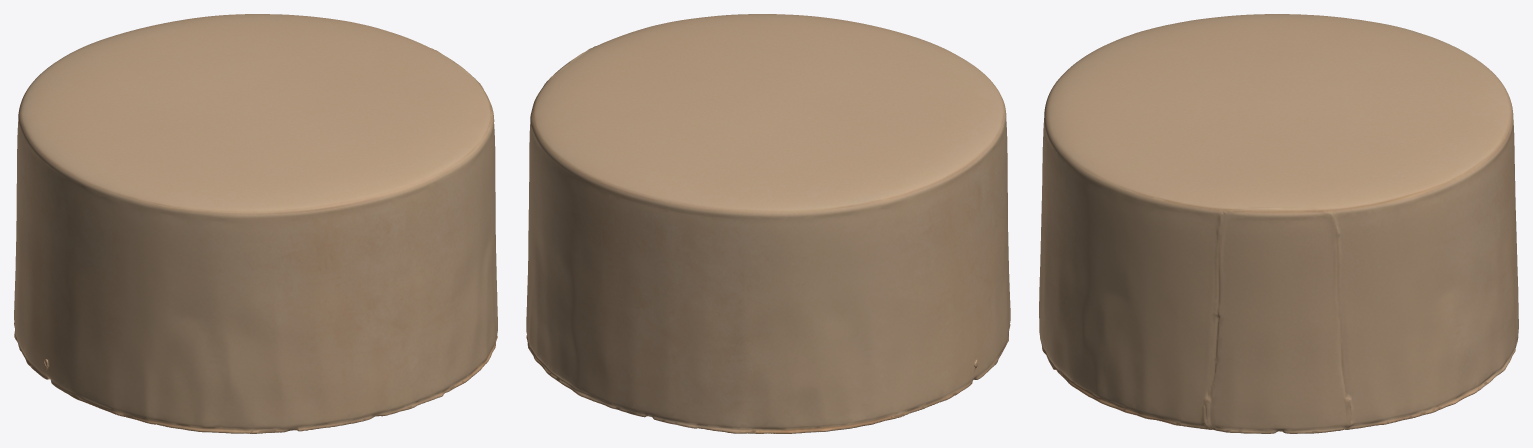
The model's file is product-traditional-dixon-slipcovered-round-ottoman-02.glb.
3 views of the same model, side by side, from view 1: azimuth 30°, elevation 25°; view 2: azimuth 150°, elevation 25°; view 3: azimuth 270°, elevation 25° (orthographic).
Visible parts, largest first — view 1: geometry_0; view 2: geometry_0; view 3: geometry_0.
Part boxes in pixels (x1,y1,x2,y2): geometry_0: (14,14,497,433); geometry_0: (526,14,1010,433); geometry_0: (1039,14,1518,433).
Bounding box in the file's own units: 1.98 × 1.08 × 1.97.
1 material, 1 textured.
